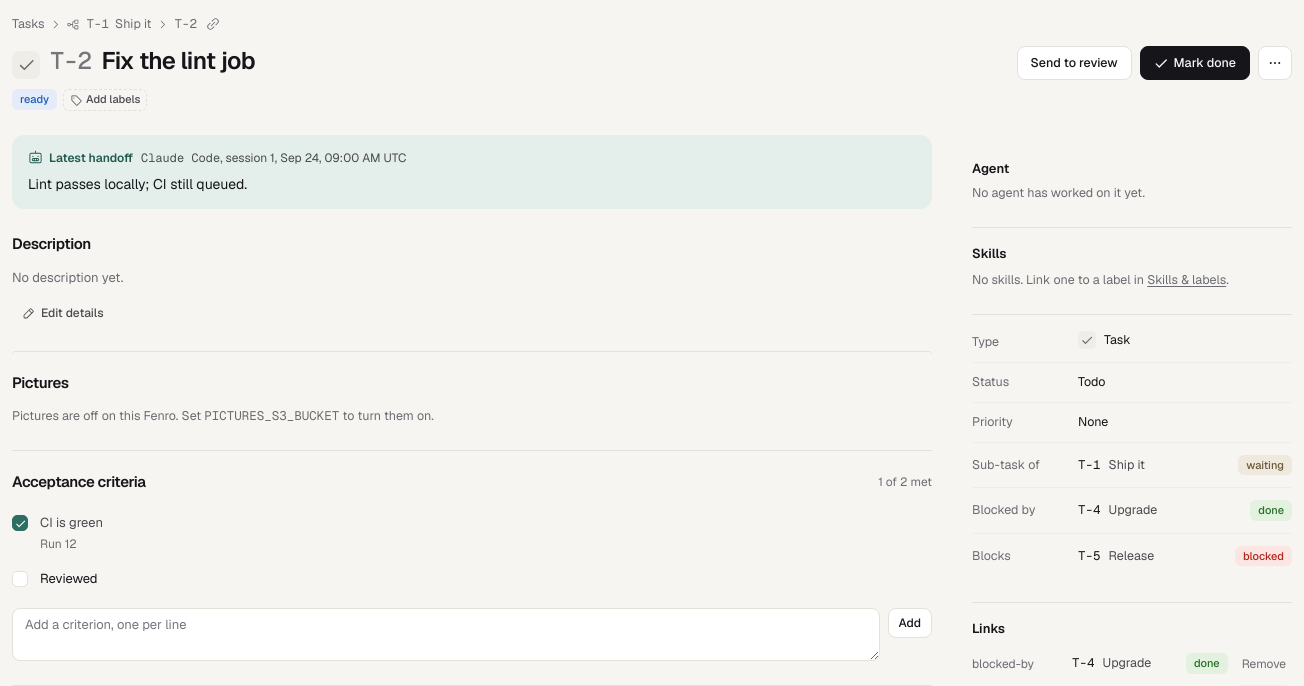
it: TaskDetail › shows the domain's refusal where the person acted
This screenshot has width=1304, height=686.
Click the button "Mark done".
click(1195, 63)  # box [1140,46,1250,80]
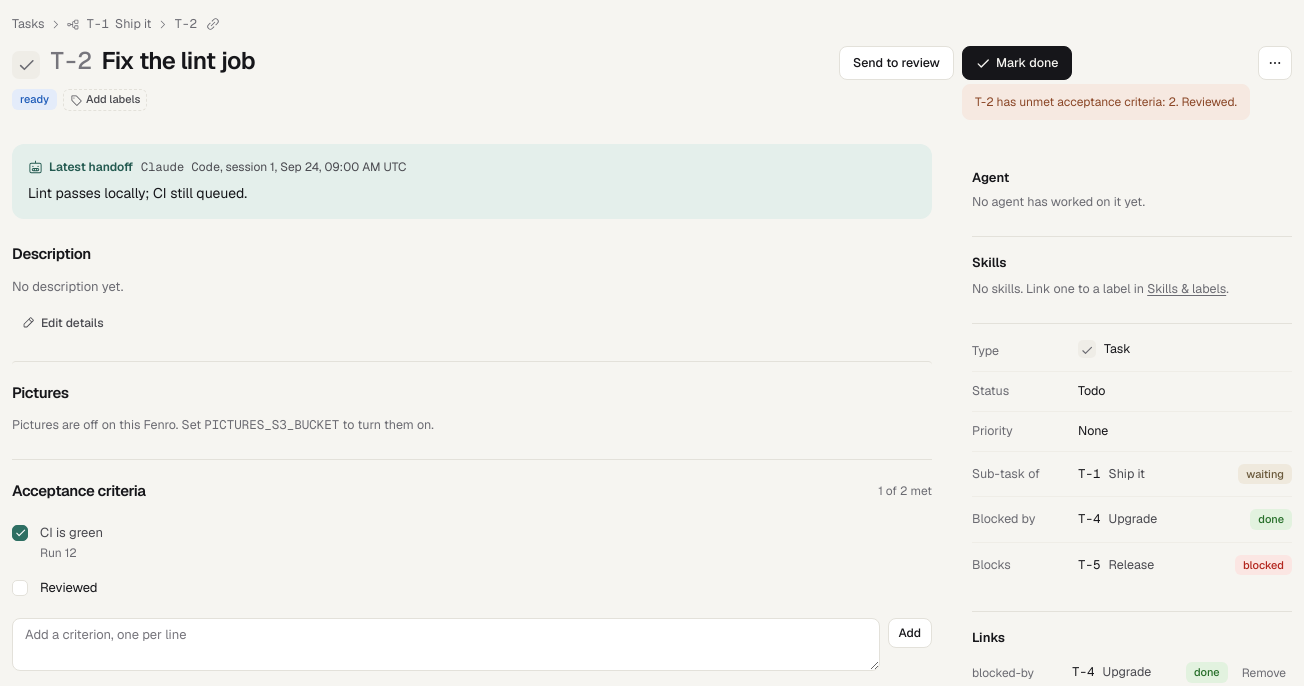
Check: the 1st text "T-2" is shown, box [174,15,197,33]
Check: the message shows "unmet acceptance criteria", box [975,94,1237,110]
